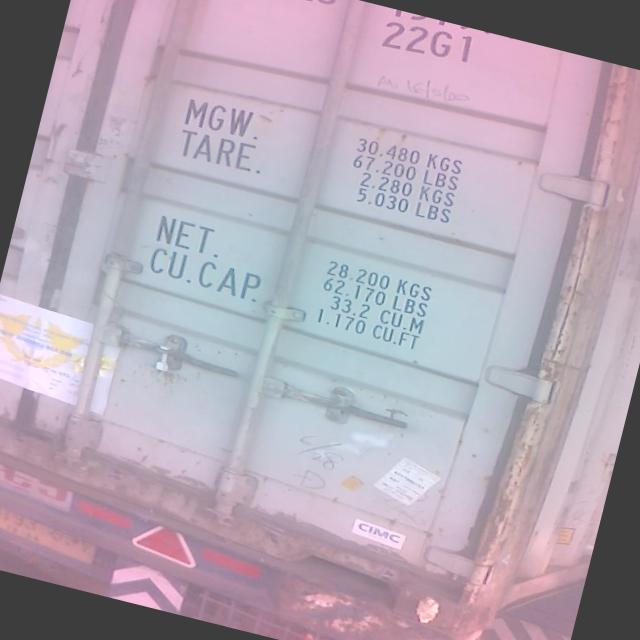seal: (148, 337, 183, 378)
